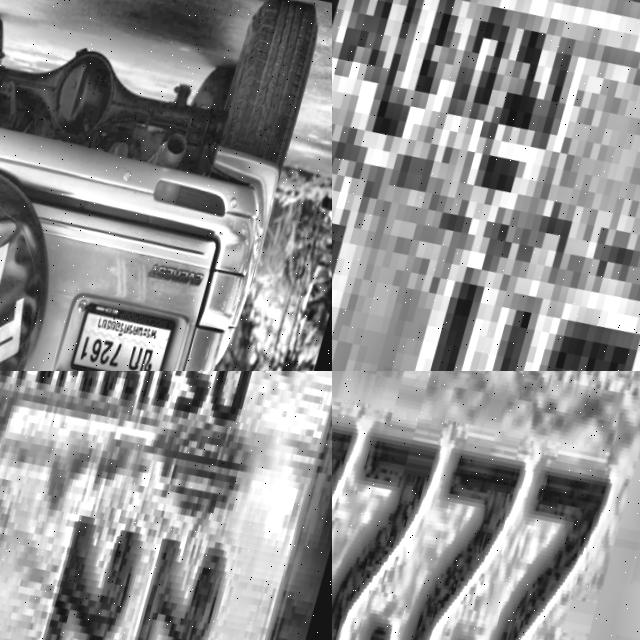license-plate: (332, 0, 640, 371), (0, 371, 332, 640), (332, 371, 640, 640), (69, 300, 177, 371)
